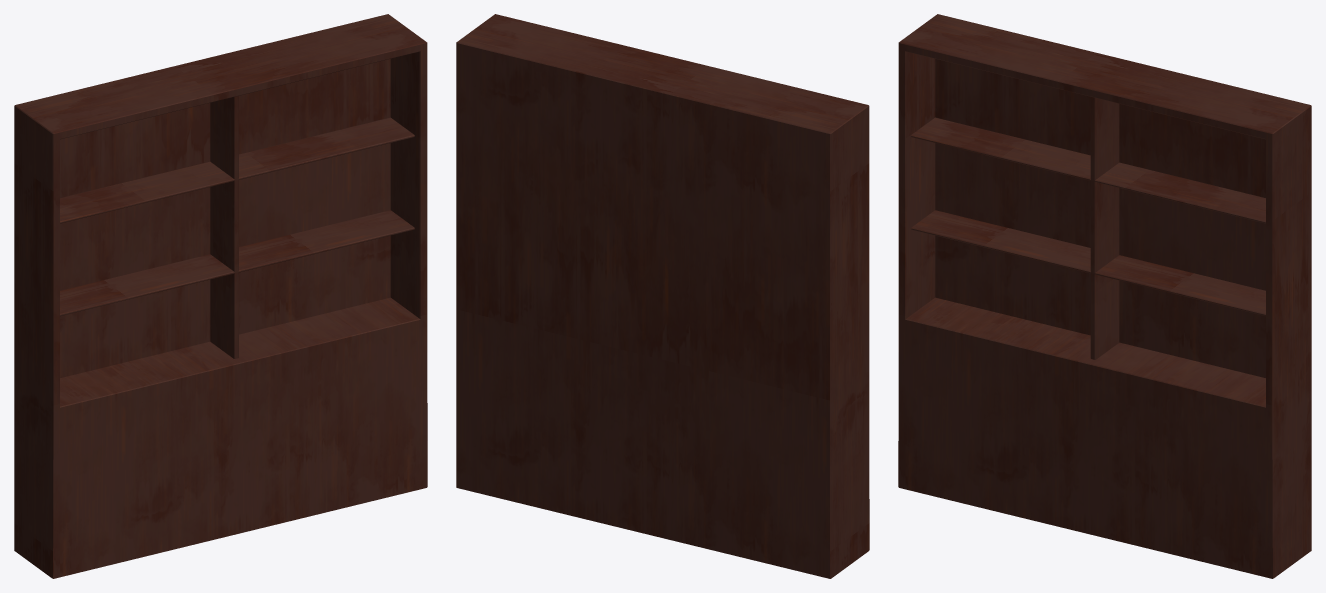
Rendered from Mesh_Shelf.fbx.
3 views of the same model, side by side, from view 1: azimuth 30°, elevation 25°; view 2: azimuth 150°, elevation 25°; view 3: azimuth 330°, elevation 25° (orthographic).
Parts seen in each view (by area): view 1: Shelf_low; view 2: Shelf_low; view 3: Shelf_low.
Boxes of the visible parts, x1,y1,x2,y2 form: Shelf_low: (14,14,427,578); Shelf_low: (456,14,869,578); Shelf_low: (898,14,1311,578).
Bounding box in the file's own units: 220 × 249 × 39.66.
1 material, 1 textured.
